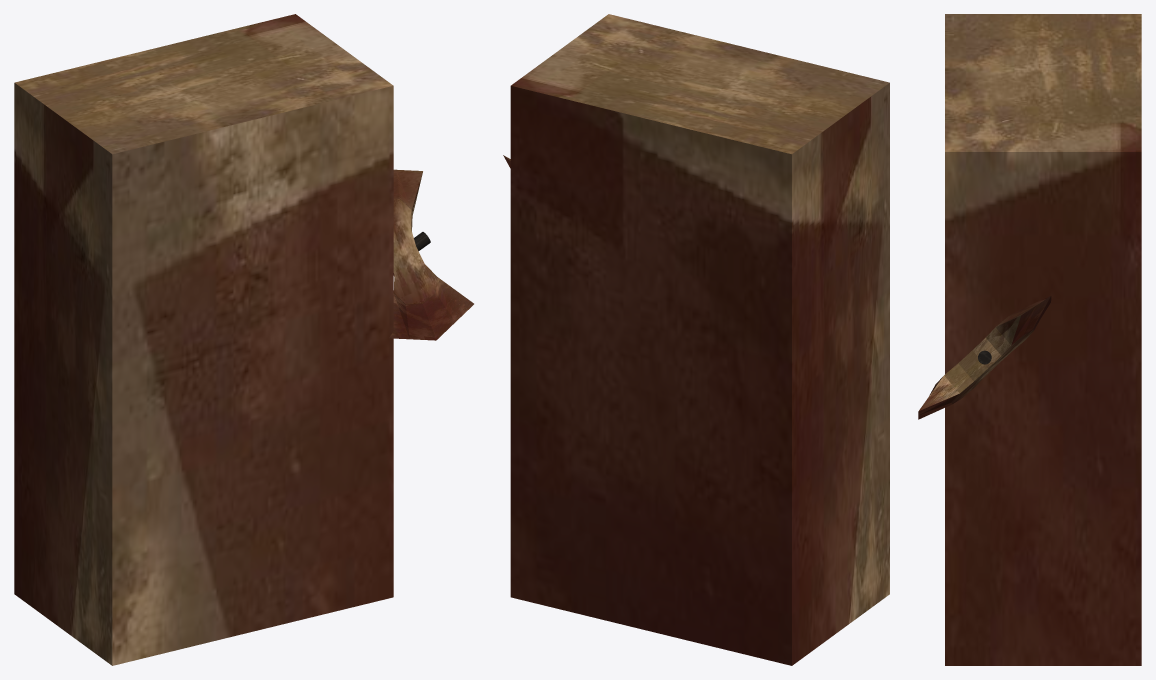
Rendered from minotaver6.gltf.
3 renders of one model, left to right at view 1: azimuth 30°, elevation 25°; view 2: azimuth 150°, elevation 25°; view 3: azimuth 270°, elevation 25°, orthographic.
Visible parts, largest first — view 1: Trigger, Cube.005; view 2: Trigger; view 3: Trigger, Cube.005.
Part boxes in pixels (x1=…): Trigger: x1=14, y1=14, x2=393, y2=665; Cube.005: x1=389, y1=169, x2=473, y2=340; Trigger: x1=510, y1=14, x2=889, y2=665; Trigger: x1=945, y1=14, x2=1141, y2=665; Cube.005: x1=918, y1=296, x2=1051, y2=419.
Size of the model in its own units: 3.54 by 4.96 by 1.95.
8 materials, 8 textured.
